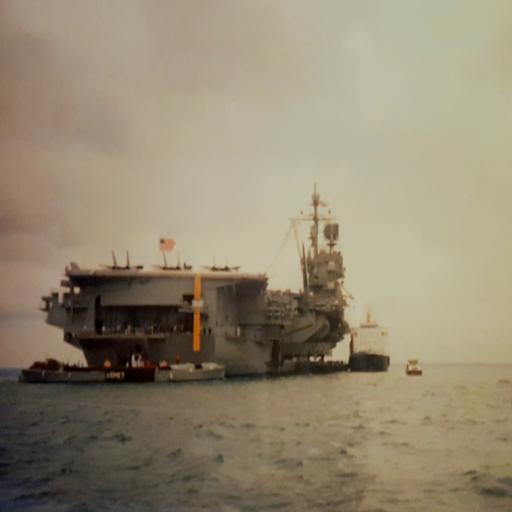Portanaves: (41, 172, 379, 387)
